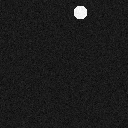nodule: (68, 0, 92, 24)
